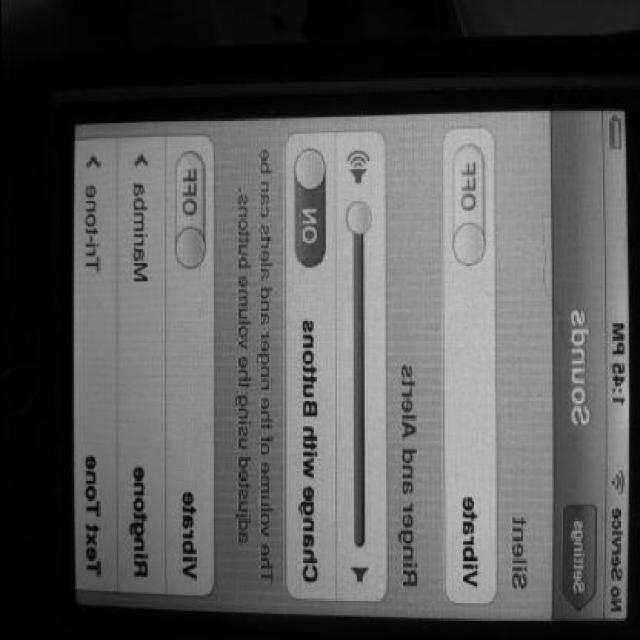fake: (29, 49, 640, 640)
